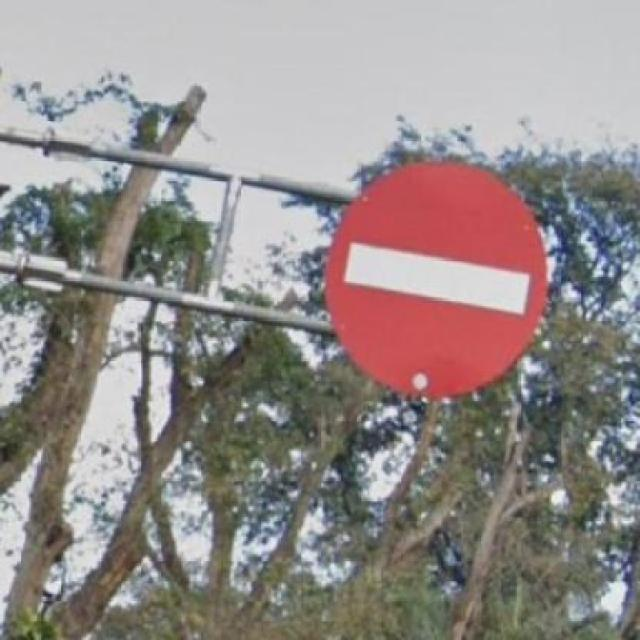no entry: (318, 147, 552, 406)
